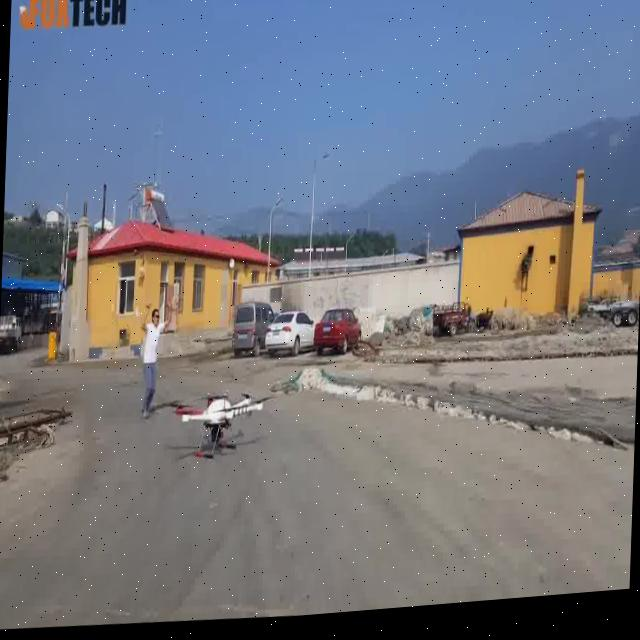drone: (169, 389, 264, 467)
